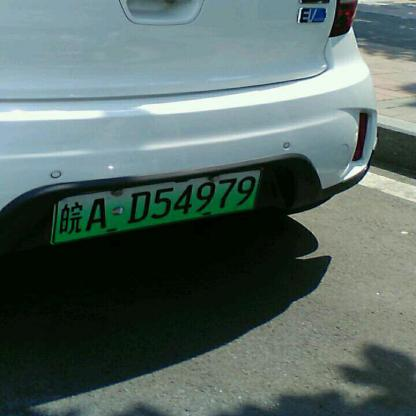lp: (52, 169, 58, 242)
